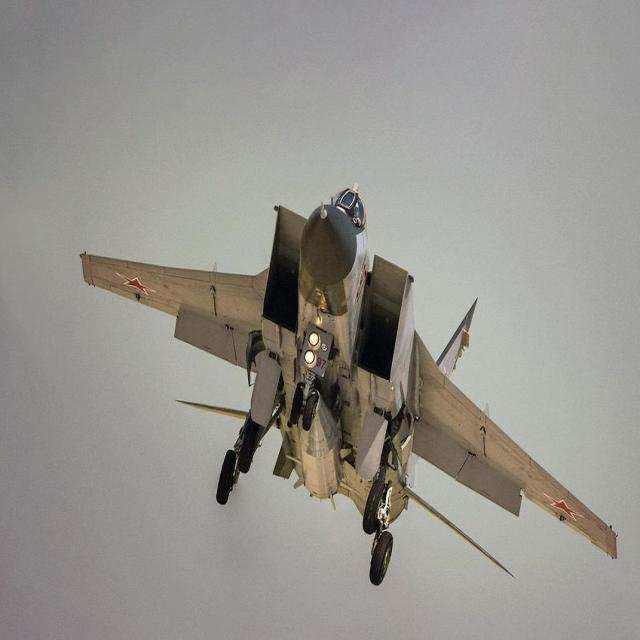MIL_Plane: (79, 181, 618, 587)
